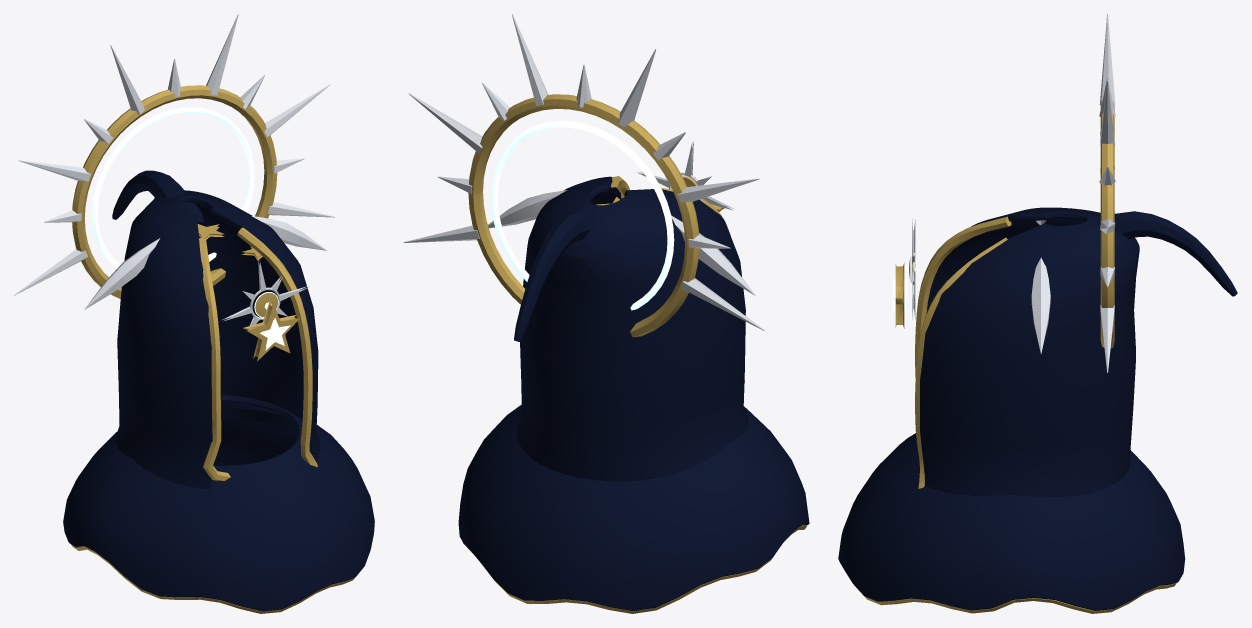
The model's file is esc_unmade_sky_sage_helm.glb.
The picture shows the model from 3 angles, left to right: view 1: azimuth 30°, elevation 25°; view 2: azimuth 150°, elevation 25°; view 3: azimuth 270°, elevation 25°; orthographic projection. The views are drawn at different scales.
Visible parts, largest first — view 1: esc_unmade_sky_sage_helm; view 2: esc_unmade_sky_sage_helm; view 3: esc_unmade_sky_sage_helm.
Part boxes in pixels (left/top/right/bottom): esc_unmade_sky_sage_helm: left=14, top=14, right=374, bottom=613; esc_unmade_sky_sage_helm: left=403, top=14, right=809, bottom=613; esc_unmade_sky_sage_helm: left=838, top=14, right=1237, bottom=613.
Bounding box in the file's own units: 0.7147 × 1.04 × 0.721.
